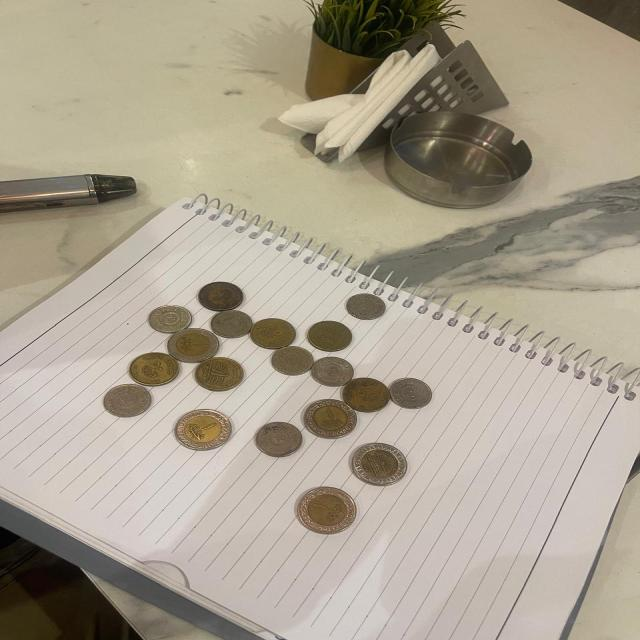Half Pound: (126, 351, 183, 386), (193, 357, 244, 392), (342, 377, 392, 411), (197, 278, 246, 312), (305, 319, 354, 352), (252, 317, 298, 346)
One Pound: (292, 485, 359, 535), (350, 441, 412, 488), (172, 406, 233, 452), (302, 396, 358, 439), (165, 328, 222, 362)
quarter pound: (253, 421, 304, 457), (102, 383, 154, 418), (388, 374, 434, 413), (310, 356, 355, 388), (342, 292, 388, 322), (270, 347, 314, 377), (210, 309, 254, 339), (148, 304, 192, 331)
